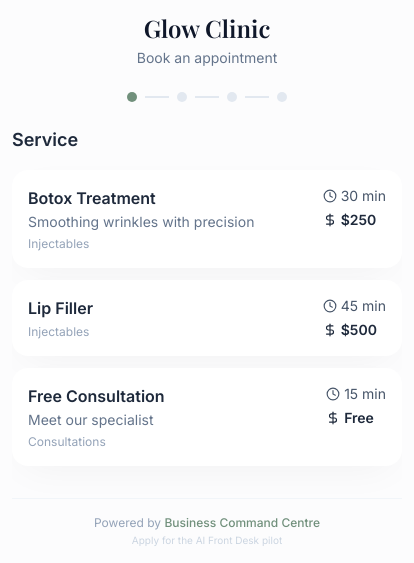
Test: BookingPortalPage › Step 2: Date & Time Selection › shows loading text while fetching slots
What coordinates should you click on to do the following:
click the text "Botox Treatment"
I would click on:
 (92, 198)
Its box is [28,188,156,208].
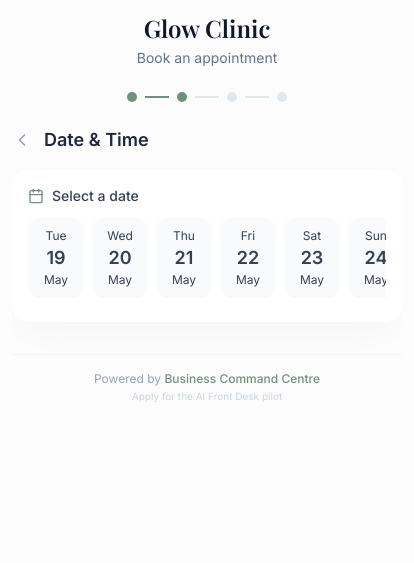
Check: the heading "Date & Time" is shown, box [44,126,149,154]
What coordinates should you click on to do the following:
click the radio button labelled "Tue 19 May"
I would click on:
 (56, 258)
Its box is [28,218,84,298].
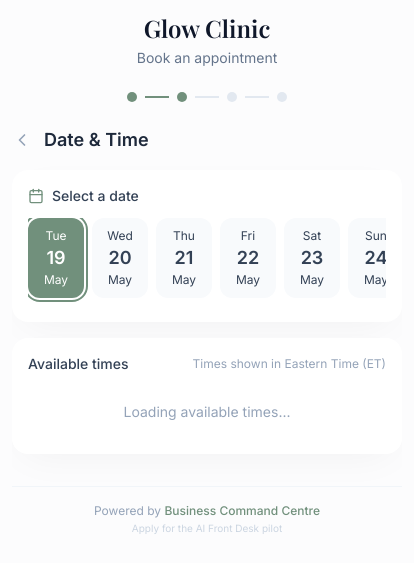
Check: the text "Loading available times..." is shown, box [124,403,290,420]
